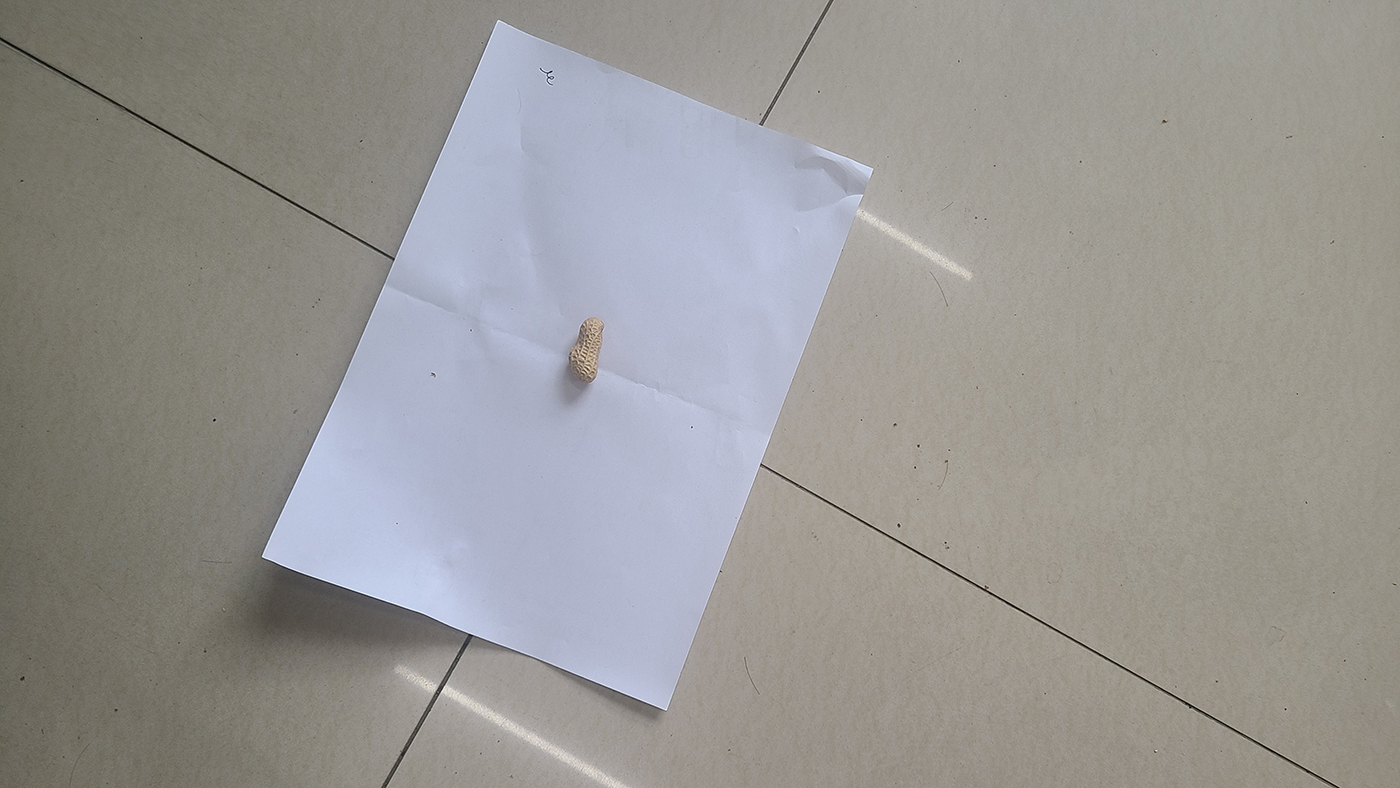h: (569, 317, 605, 382)
